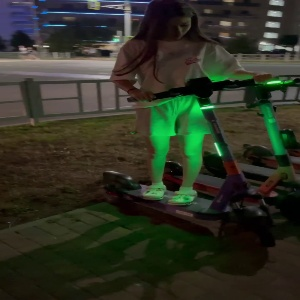human on a scooter: (101, 1, 275, 250)
